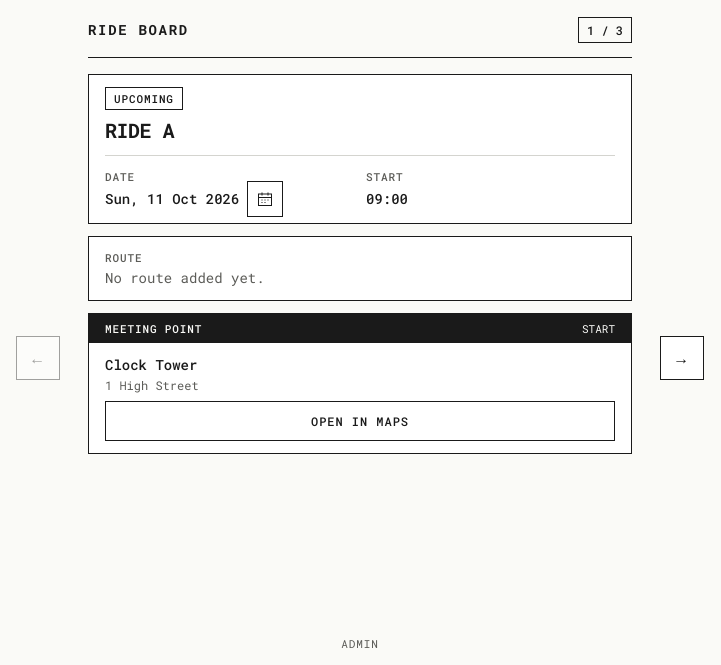
Test: RideBoard navigation › navigates with the arrow buttons and disables them at the ends
Expected: the button named "Previous ride" is disabled, left=16, top=336, right=60, bottom=380
Click the button named "Next ride": (682, 358) left=660, top=336, right=704, bottom=380
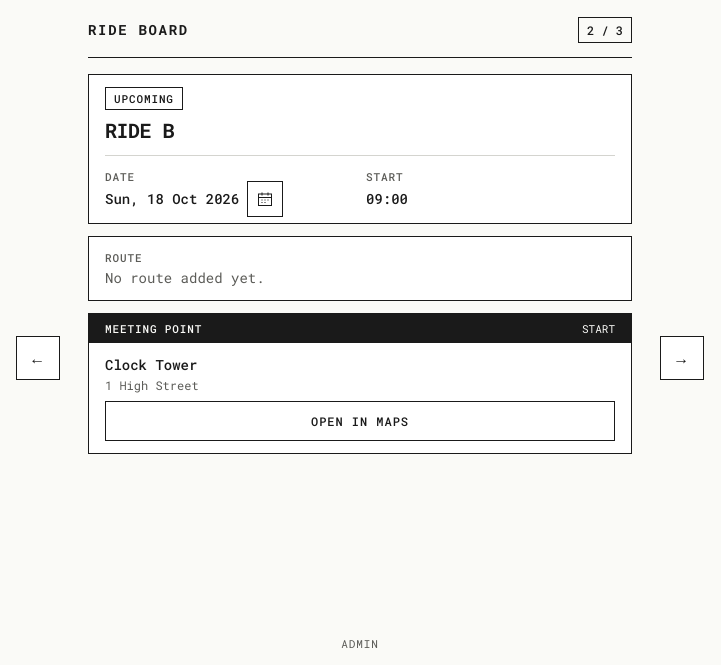
Expected: the heading "Ride B" is shown, left=105, top=117, right=174, bottom=143
Expected: the text named "Ride 2 of 3" is shown, left=578, top=16, right=632, bottom=42
Click the button named "Next ride": (682, 358) left=660, top=336, right=704, bottom=380
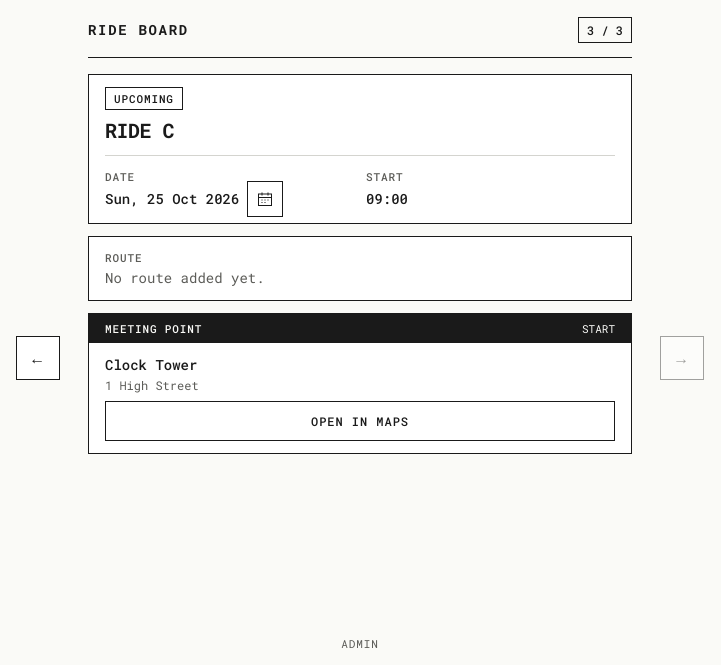
Expected: the heading "Ride C" is shown, left=105, top=117, right=174, bottom=143
Click the button named "Previous ride": (38, 358) left=16, top=336, right=60, bottom=380
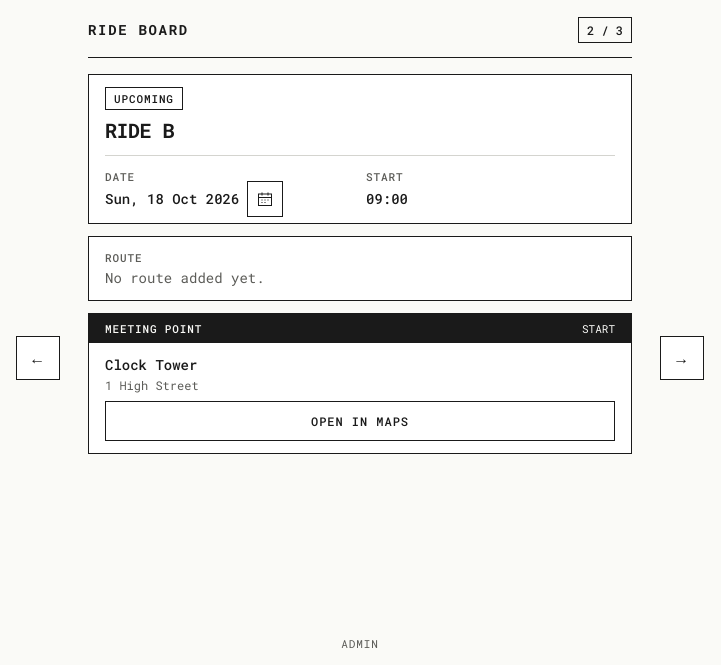
Expected: the heading "Ride B" is shown, left=105, top=117, right=174, bottom=143
